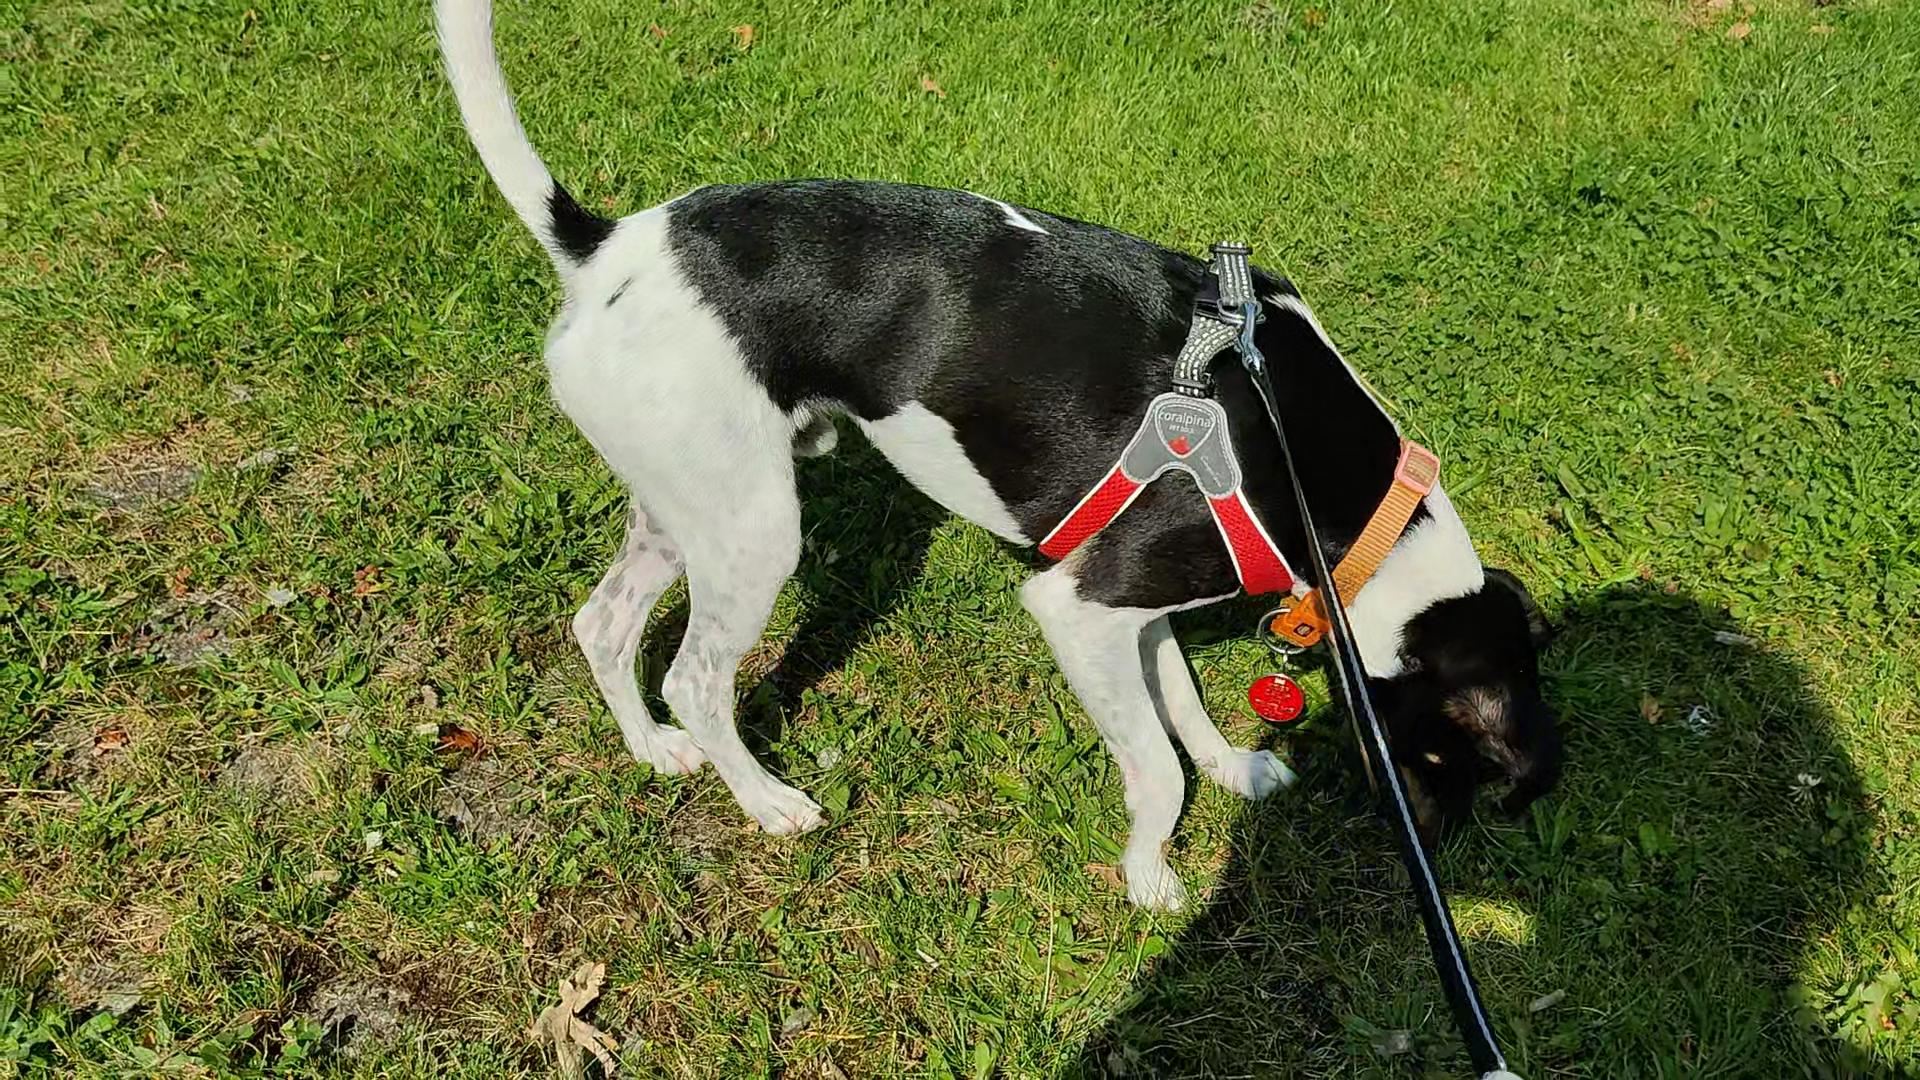Dog: (422, 0, 1577, 920)
